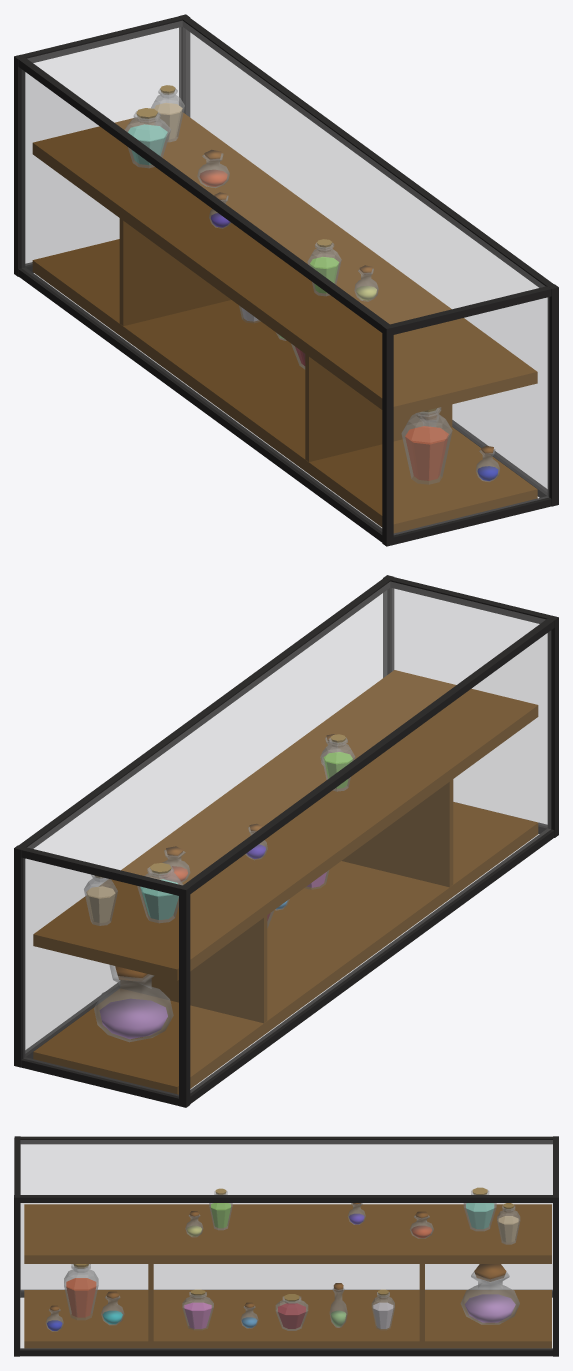
The model's file is DisplayCase.fbx.
The picture shows the model from 3 angles, top to bottom: view 1: azimuth 30°, elevation 25°; view 2: azimuth 150°, elevation 25°; view 3: azimuth 270°, elevation 25°; orthographic projection. The views are drawn at different scales.
Parts seen in each view (by area): view 1: Cube, Cube.001, Cube.006, Potion.007; view 2: Cube, Cube.001, Cube.006, Potion.007; view 3: Cube, Cube.001, Cube.006, Potion.007.
Boxes of the visible parts, x1,y1,x2,y2 form: Cube: (22, 21, 548, 534); Cube.001: (32, 112, 537, 533); Cube.006: (14, 14, 558, 546); Potion.007: (125, 85, 499, 484); Cube: (23, 582, 550, 1095); Cube.001: (33, 670, 538, 1094); Cube.006: (14, 575, 558, 1107); Potion.007: (84, 734, 355, 1042); Cube: (20, 1140, 552, 1348); Cube.001: (24, 1204, 551, 1348); Cube.006: (14, 1136, 558, 1356); Potion.007: (46, 1187, 520, 1331).
Bounding box in the file's own units: 375 × 453 × 1406.
